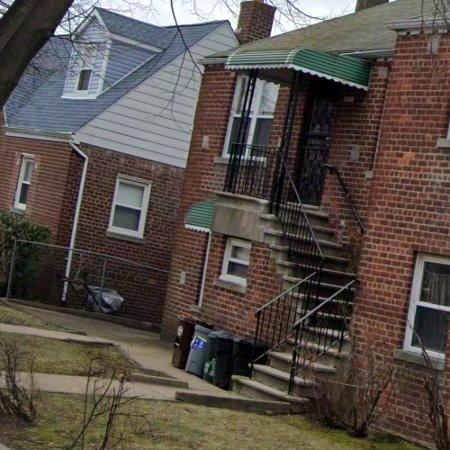stairs: (233, 153, 358, 405)
